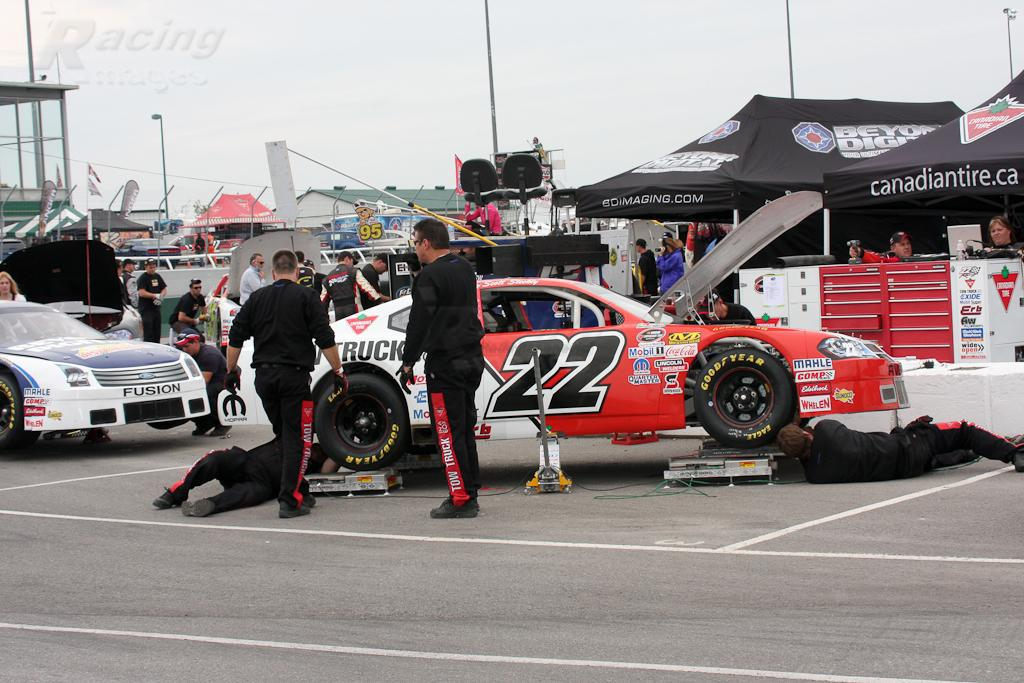face: (414, 231, 432, 260), (992, 223, 1008, 243), (705, 301, 721, 321), (895, 240, 912, 257), (180, 340, 196, 355), (2, 279, 10, 294), (255, 257, 263, 269), (346, 257, 354, 269), (379, 262, 386, 274), (147, 263, 155, 272), (663, 245, 671, 254), (850, 248, 857, 257), (194, 285, 200, 294), (117, 264, 123, 273), (636, 244, 641, 251), (129, 265, 135, 270)
